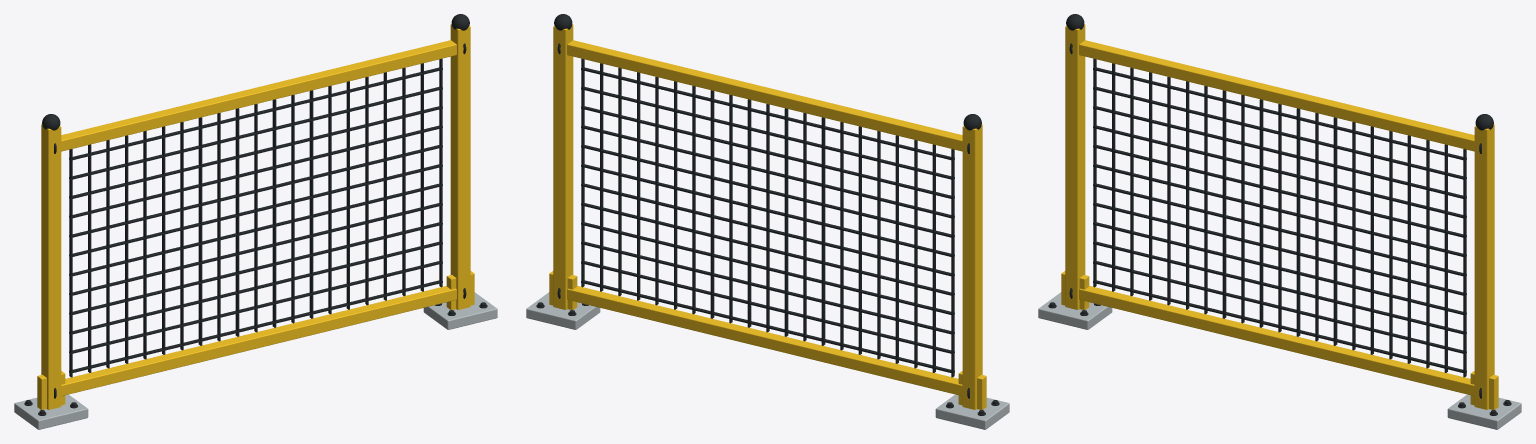
The model's file is machine_safety_fence_panel.glb.
The picture shows the model from 3 angles, left to right: view 1: azimuth 30°, elevation 25°; view 2: azimuth 150°, elevation 25°; view 3: azimuth 330°, elevation 25°; orthographic projection.
Parts seen in each view (by area): view 1: FENCE_rail_1.95, FENCE_rail_0.18, FENCE_post_-1.55, FENCE_post_1.55, MESH_h_0.56, MESH_h_1.4000000000000001, MESH_h_0.9800000000000001, MESH_h_1.6800000000000002, MESH_h_1.82, MESH_h_1.2600000000000002, MESH_h_0.7000000000000001, MESH_h_1.12 (+27 smaller); view 2: FENCE_rail_1.95, FENCE_rail_0.18, FENCE_post_-1.55, FENCE_post_1.55, MESH_h_0.56, MESH_h_1.4000000000000001, MESH_h_0.9800000000000001, MESH_h_1.6800000000000002, MESH_h_0.8400000000000001, MESH_h_1.82, MESH_h_1.5400000000000003, MESH_h_1.2600000000000002 (+27 smaller); view 3: FENCE_rail_1.95, FENCE_rail_0.18, FENCE_post_1.55, FENCE_post_-1.55, MESH_h_0.56, MESH_h_1.4000000000000001, MESH_h_0.9800000000000001, MESH_h_0.8400000000000001, MESH_h_1.82, MESH_h_1.6800000000000002, MESH_h_1.2600000000000002, MESH_h_1.12 (+27 smaller).
Part boxes in pixels (x1,y1,x2,y2): FENCE_rail_1.95: (61,40,456,151); FENCE_rail_0.18: (61,286,456,396); FENCE_post_-1.55: (41,124,61,409); FENCE_post_1.55: (450,24,470,309); MESH_h_0.56: (69,241,442,334); MESH_h_1.4000000000000001: (69,125,442,218); MESH_h_0.9800000000000001: (69,183,442,276); MESH_h_1.6800000000000002: (69,87,442,179); MESH_h_1.82: (69,67,442,160); MESH_h_1.2600000000000002: (69,145,442,237); MESH_h_0.7000000000000001: (69,222,442,315); MESH_h_1.12: (69,164,442,257); FENCE_rail_1.95: (567,40,962,151); FENCE_rail_0.18: (567,286,962,396); FENCE_post_-1.55: (962,124,982,409); FENCE_post_1.55: (553,24,573,309); MESH_h_0.56: (581,241,954,334); MESH_h_1.4000000000000001: (581,125,954,218); MESH_h_0.9800000000000001: (581,183,954,276); MESH_h_1.6800000000000002: (581,87,954,179); MESH_h_0.8400000000000001: (581,203,954,295); MESH_h_1.82: (581,67,954,160); MESH_h_1.5400000000000003: (581,106,954,199); MESH_h_1.2600000000000002: (581,145,954,237); FENCE_rail_1.95: (1079,40,1474,151); FENCE_rail_0.18: (1079,286,1474,396); FENCE_post_1.55: (1474,124,1494,409); FENCE_post_-1.55: (1065,24,1085,309); MESH_h_0.56: (1093,241,1466,334); MESH_h_1.4000000000000001: (1093,125,1466,218); MESH_h_0.9800000000000001: (1093,183,1466,276); MESH_h_0.8400000000000001: (1093,203,1466,295); MESH_h_1.82: (1093,67,1466,160); MESH_h_1.6800000000000002: (1093,87,1466,179); MESH_h_1.2600000000000002: (1093,145,1466,237); MESH_h_1.12: (1093,164,1466,257).
Size of the model in its own units: 3.48 by 2.18 by 0.32.
